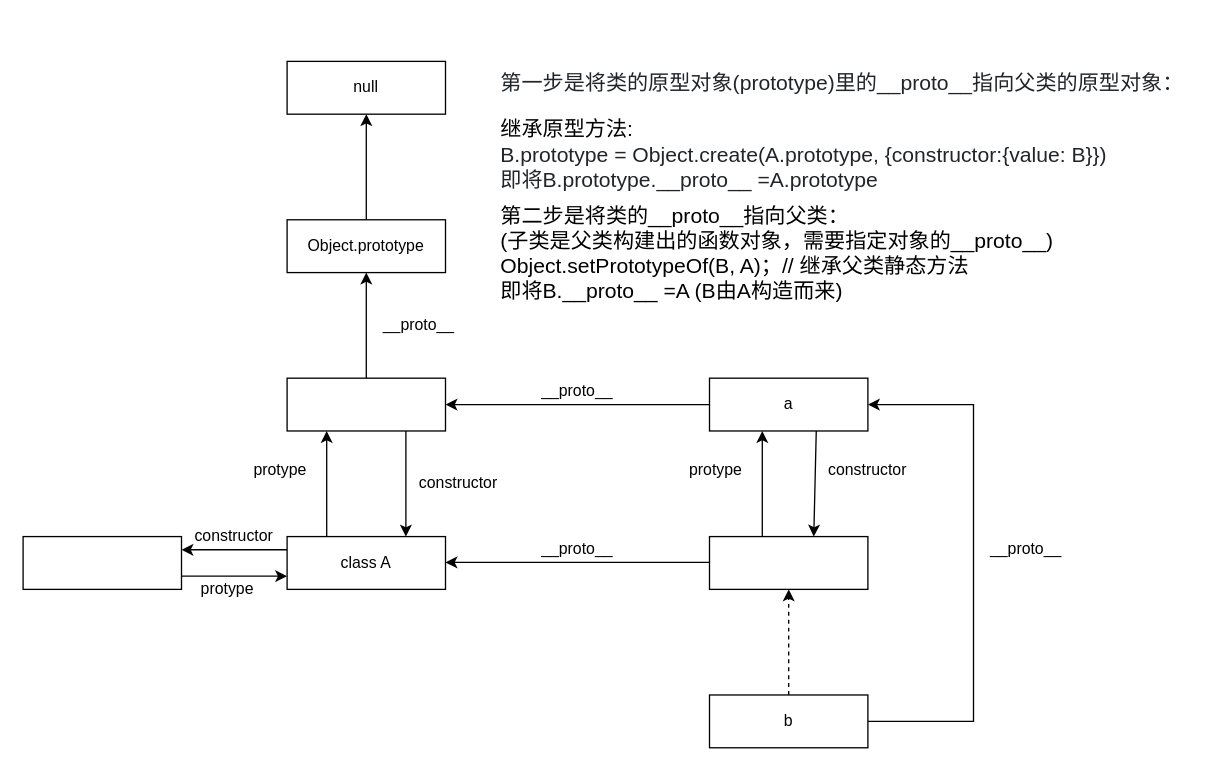
Some shapes in this 1208 by 771 pixel diagram are drawn without their labels. Each missing label, with the centre of its shape:
A.prototype: the point at 366,404
class B extends A: the point at 788,562
Function: the point at 102,562
